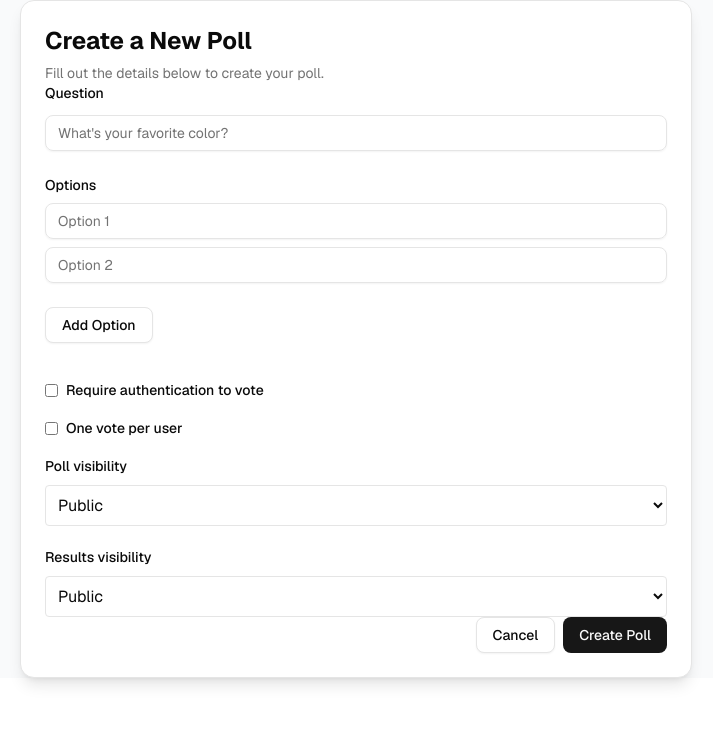
Test: Poll Workflow Integration › User Experience › should maintain form state during interaction
This screenshot has width=713, height=748.
// Fill form and add option
Type "Test Question" into the field labelled "Question".
click(356, 133); type("Test Question")  # box [45,115,667,151]
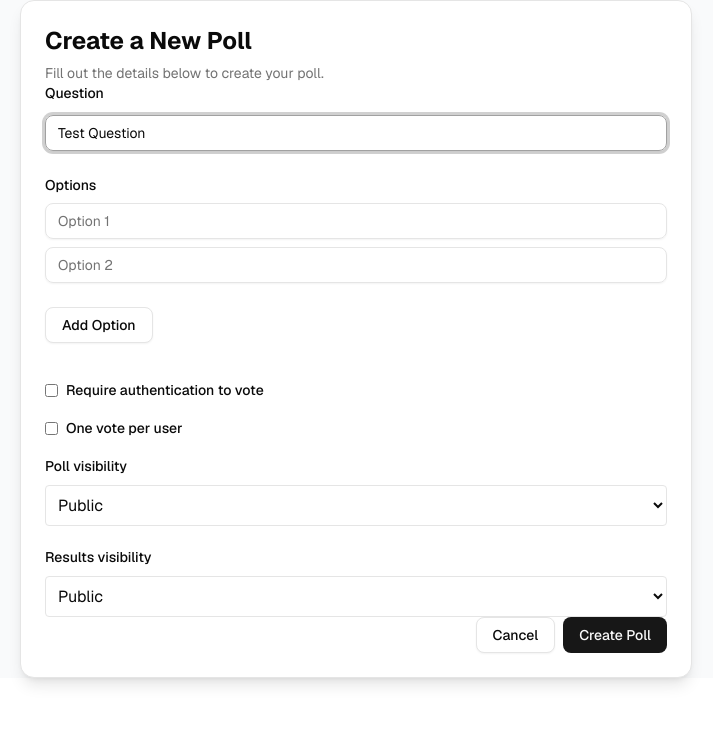
Type "Test Option" into the field with placeholder "Option 1".
click(356, 221); type("Test Option")  # box [45,203,667,239]
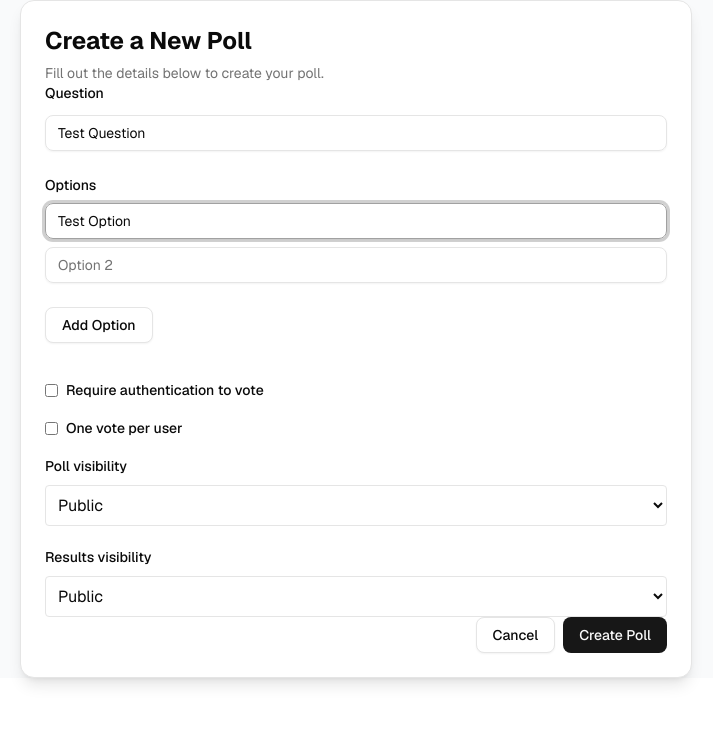
Click the button "Add Option".
click(99, 325)  # box [45,307,153,343]
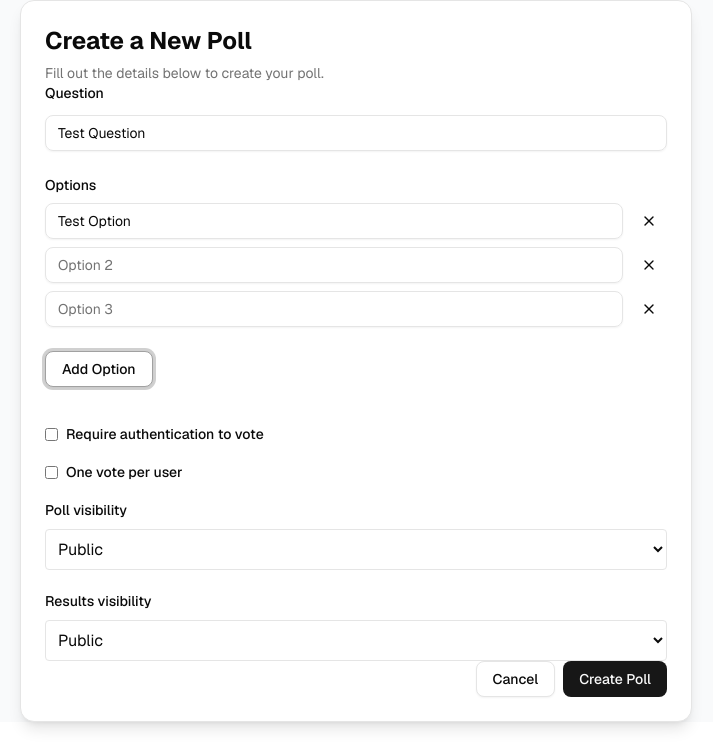
Check: the field with placeholder "Option 3" is shown, box [45,291,623,327]
